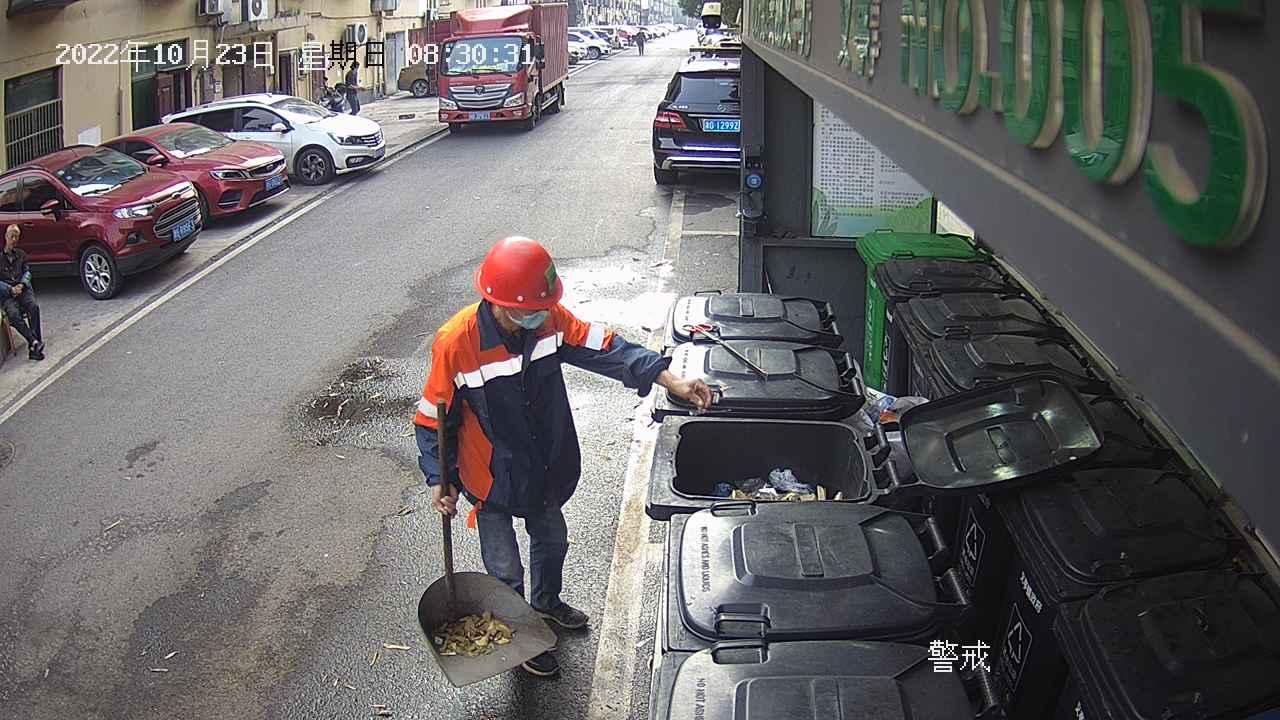worker: (408, 229, 719, 684)
